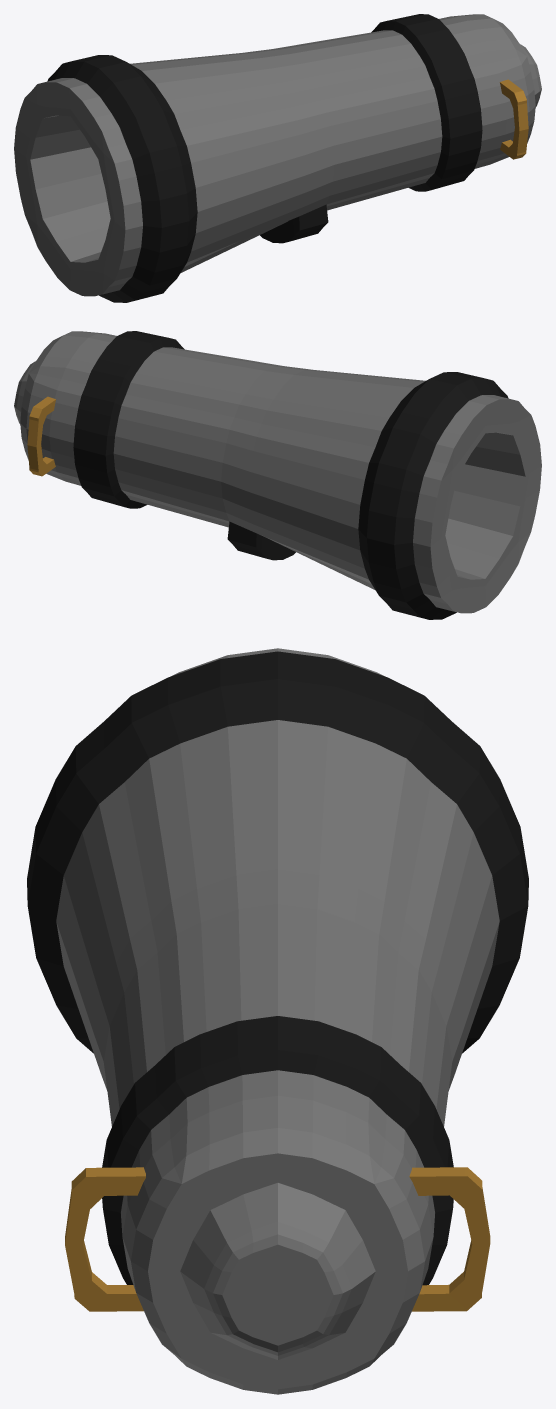
Rendered from Cannon_Export.fbx.
The picture shows the model from 3 angles, top to bottom: view 1: azimuth 30°, elevation 25°; view 2: azimuth 150°, elevation 25°; view 3: azimuth 270°, elevation 25°; orthographic projection. The views are drawn at different scales.
Visible parts, largest first — view 1: Cube.018; view 2: Cube.018; view 3: Cube.018.
Part boxes in pixels (x1,y1,x2,y2): Cube.018: (14,14,541,302); Cube.018: (14,331,541,619); Cube.018: (27,648,528,1394).
Size of the model in its own units: 267 by 127 by 127.
